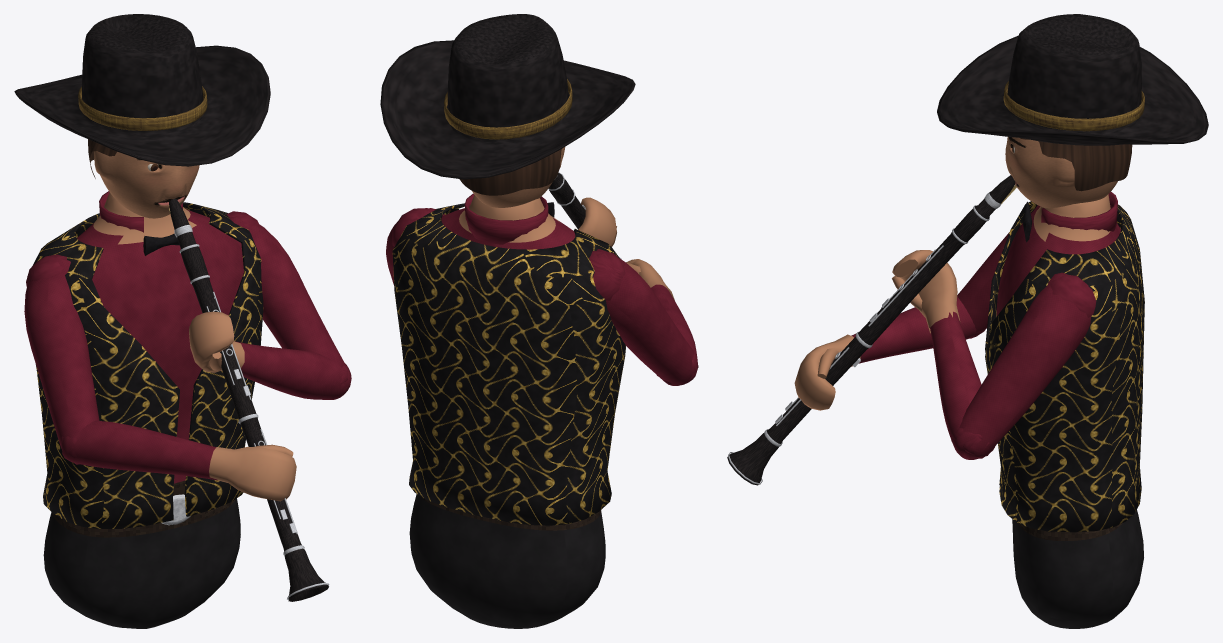
File: torso.obj
3 renders of one model, left to right at view 1: azimuth 30°, elevation 25°; view 2: azimuth 150°, elevation 25°; view 3: azimuth 270°, elevation 25°, orthographic.
Visible parts, largest first — view 1: clarinete_Torso, clarinete_Chaleco, clarinete_Sombrero, clarinete_BrazoDer, clarinete_Clarinete, clarinete_AntebrazoDer, clarinete_BrazoIzq, clarinete_Cabeza, clarinete_AntebrazoIzq, clarinete_ManoDer, clarinete_ManoIzq, clarinete_HombroDer (+1 smaller); view 2: clarinete_Chaleco, clarinete_Sombrero, clarinete_Torso, clarinete_BrazoDer, clarinete_Pelo, clarinete_Cuello, clarinete_HombroDer, clarinete_ManoIzq, clarinete_AntebrazoDer, clarinete_Clarinete, clarinete_Cabeza, clarinete_ManoDer (+1 smaller); view 3: clarinete_Chaleco, clarinete_Sombrero, clarinete_Torso, clarinete_BrazoIzq, clarinete_Clarinete, clarinete_AntebrazoIzq, clarinete_Cabeza, clarinete_Pelo, clarinete_AntebrazoDer, clarinete_ManoIzq, clarinete_ManoDer, clarinete_BrazoDer (+2 smaller).
Part boxes in pixels (box(x1,y1,x2,y2)): clarinete_Torso: box(43, 192, 243, 628); clarinete_Chaleco: box(27, 202, 263, 528); clarinete_Sombrero: box(14, 14, 270, 166); clarinete_BrazoDer: box(24, 256, 99, 455); clarinete_Clarinete: box(168, 198, 329, 601); clarinete_AntebrazoDer: box(62, 420, 227, 482); clarinete_BrazoIzq: box(229, 216, 348, 384); clarinete_Cabeza: box(94, 151, 199, 218); clarinete_AntebrazoIzq: box(234, 341, 351, 399); clarinete_ManoDer: box(209, 444, 296, 501); clarinete_ManoIzq: box(189, 311, 244, 372); clarinete_HombroDer: box(26, 254, 66, 286); clarinete_Chaleco: box(392, 203, 625, 525); clarinete_Sombrero: box(380, 14, 635, 179); clarinete_Torso: box(409, 195, 605, 628); clarinete_BrazoDer: box(596, 249, 697, 384); clarinete_Pelo: box(459, 149, 561, 195); clarinete_Cuello: box(464, 193, 548, 244); clarinete_HombroDer: box(589, 251, 625, 300); clarinete_ManoIzq: box(578, 197, 616, 246); clarinete_AntebrazoDer: box(651, 284, 697, 385); clarinete_Clarinete: box(548, 172, 621, 259); clarinete_Cabeza: box(472, 147, 565, 207); clarinete_ManoDer: box(626, 259, 674, 300); clarinete_Chaleco: box(985, 201, 1144, 532); clarinete_Sombrero: box(937, 14, 1208, 145); clarinete_Torso: box(996, 194, 1143, 628); clarinete_BrazoIzq: box(951, 272, 1094, 458); clarinete_Clarinete: box(727, 175, 1016, 485); clarinete_AntebrazoIzq: box(930, 303, 994, 459); clarinete_Cabeza: box(1005, 137, 1117, 208); clarinete_Pelo: box(1020, 138, 1132, 191); clarinete_AntebrazoDer: box(851, 297, 984, 363); clarinete_ManoIzq: box(892, 250, 960, 333); clarinete_ManoDer: box(794, 334, 860, 410); clarinete_BrazoDer: box(957, 205, 1039, 338).
Bounding box in the file's own units: 0.5323 × 1.03 × 0.771.
Materials: 18 (18 with a texture image).
